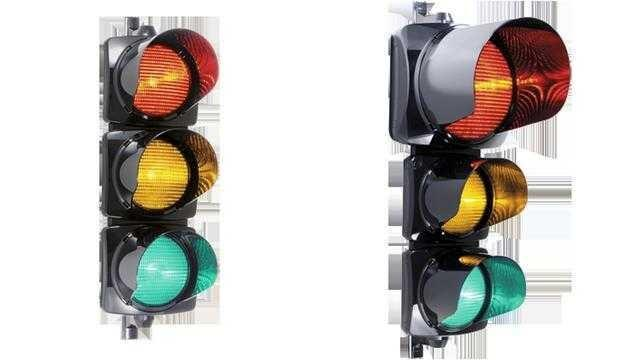5: (402, 2, 576, 158), (112, 21, 220, 119)
9: (405, 148, 533, 243), (112, 124, 224, 222)
red traffic light: (411, 239, 532, 350), (102, 222, 218, 322)
